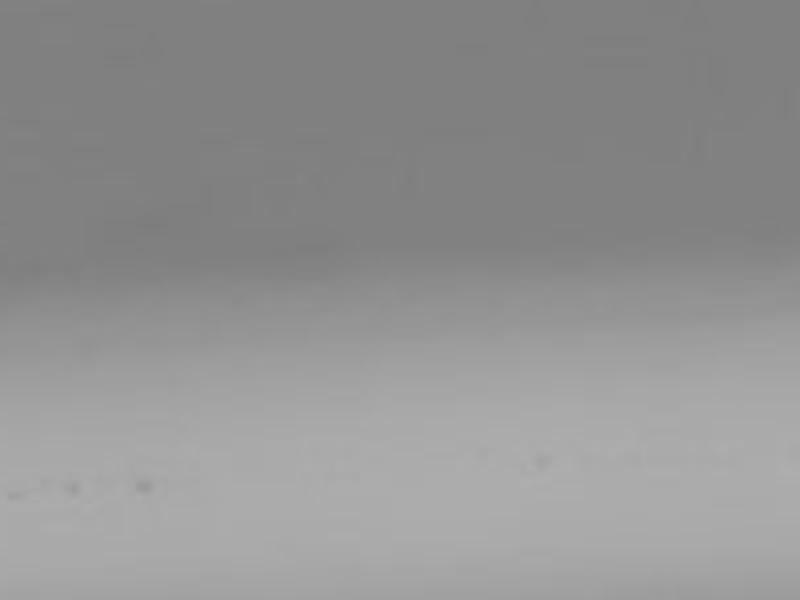defect: (529, 448, 551, 476), (133, 476, 160, 498), (64, 479, 84, 500), (6, 490, 27, 506)
